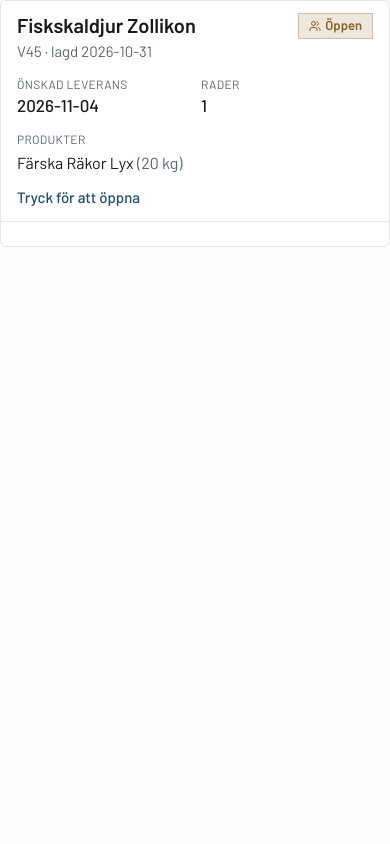
Test: opening a shared order › mounts one live editor at 390 px and reopens without duplicate callbacks
The width and height of the screenshot is (390, 844).
What coordinates should you click on to do the following:
click the button named "Tryck för att öppna"
I would click on:
 (17, 10)
Its box is [1,1,389,220].
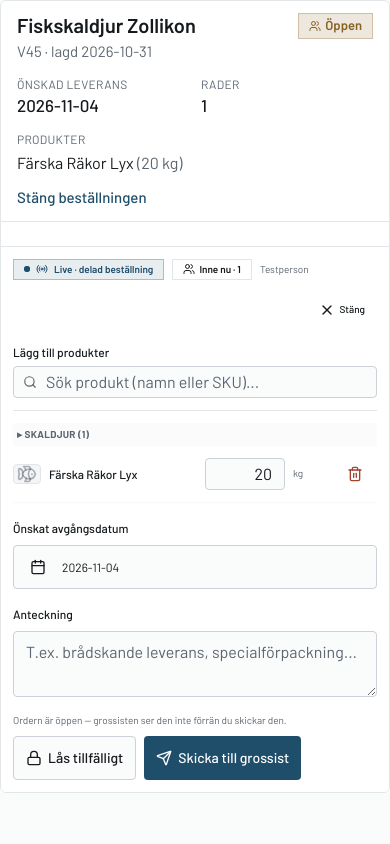
Result: the text "Live · delad beställning" is shown once at [13,258,164,280]
Result: the field showing "20" is shown at [205,458,285,490]
What coordinates should you click on to do the following:
click the button "Stäng"
I would click on:
 (342, 310)
Its box is [307,288,377,332].
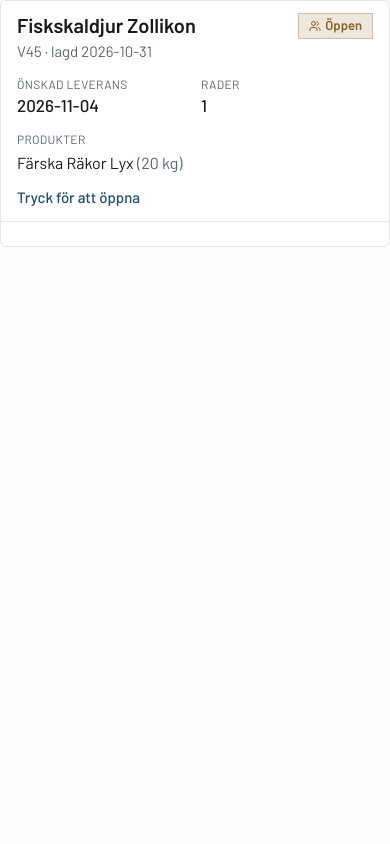
What coordinates should you click on to do the following:
click the button named "Tryck för att öppna"
I would click on:
 (17, 10)
Its box is [1,1,389,220].
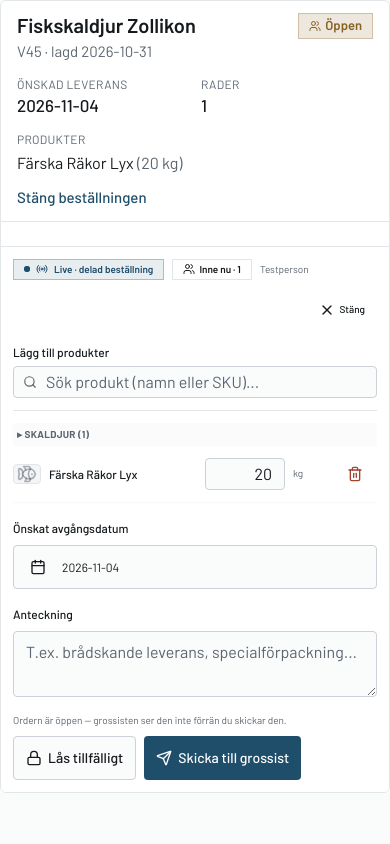
Result: the text "Live · delad beställning" is shown once at [13,258,164,280]
